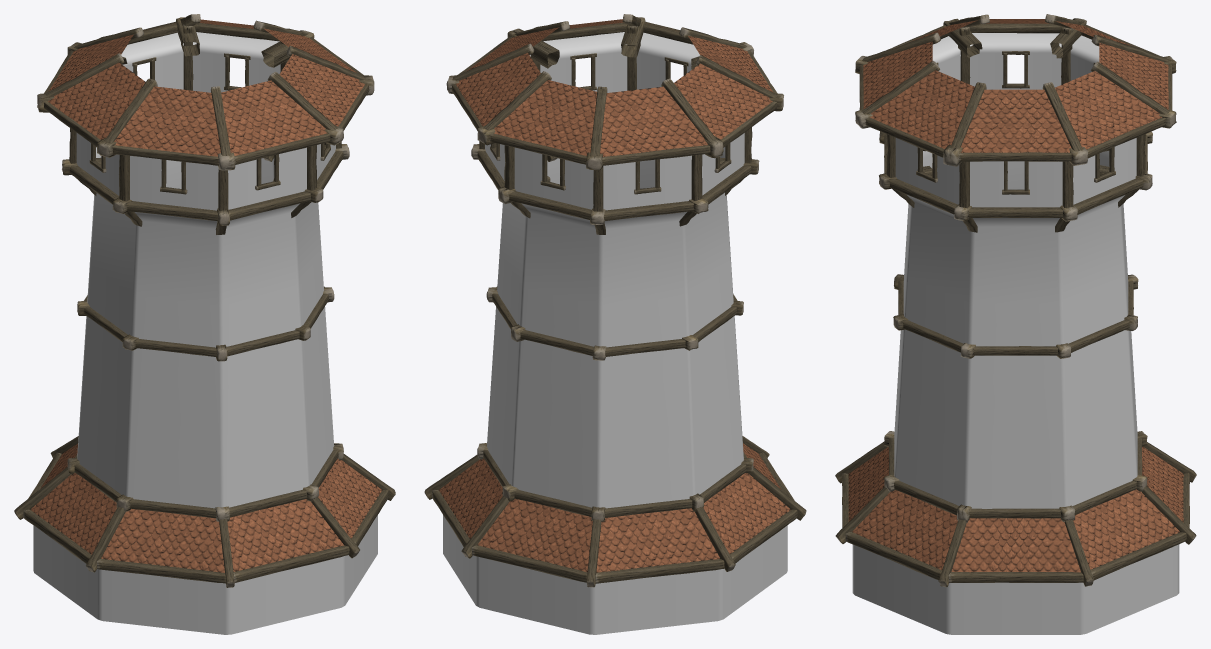
File: tower_base_geo.fbx
3 renders of one model, left to right at view 1: azimuth 30°, elevation 25°; view 2: azimuth 150°, elevation 25°; view 3: azimuth 270°, elevation 25°, orthographic.
Parts seen in each view (by area): view 1: tower_geo, wood_geo; view 2: tower_geo, wood_geo; view 3: tower_geo, wood_geo.
Boxes of the visible parts, box(x1,y1,x2,y2) form: tower_geo: box(30, 19, 382, 634); wood_geo: box(14, 14, 395, 587); tower_geo: box(439, 19, 790, 634); wood_geo: box(424, 14, 806, 587); tower_geo: box(848, 19, 1183, 634); wood_geo: box(835, 14, 1196, 587).
Bounding box in the file's own units: 34.69 × 54.7 × 34.65.
